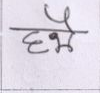ai_matra: (44, 4, 79, 30)
